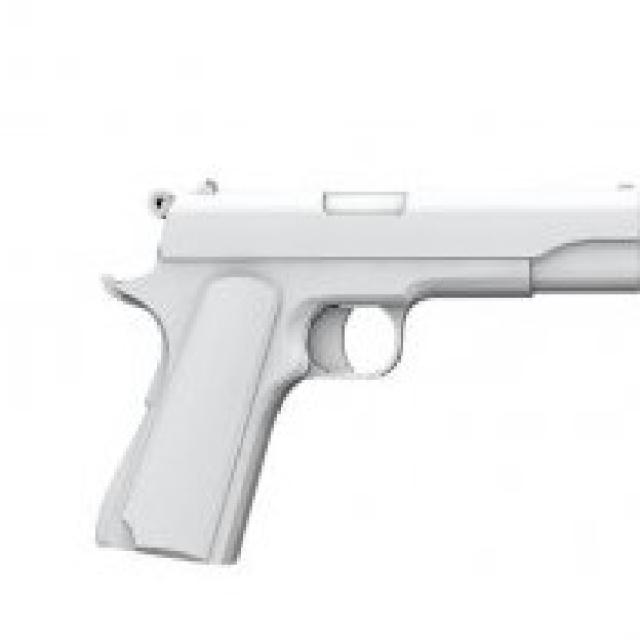pistol: (87, 167, 640, 570)
